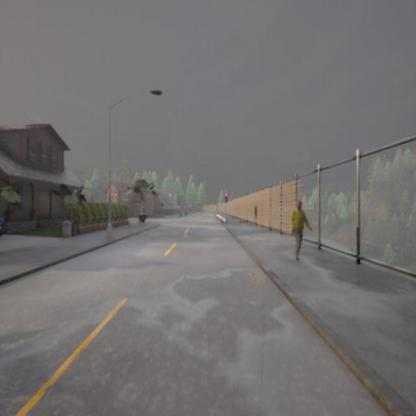person: (289, 201, 312, 263)
